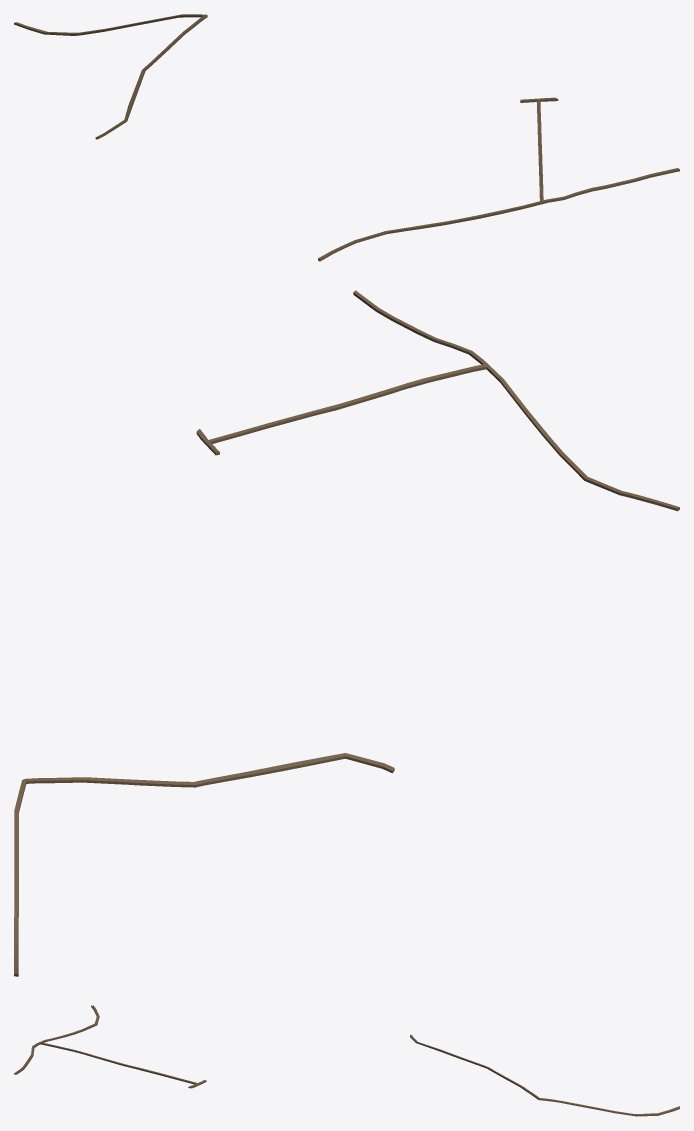
3 views of the same model, one above another, from view 1: azimuth 30°, elevation 25°; view 2: azimuth 150°, elevation 25°; view 3: azimuth 270°, elevation 25° (orthographic). The views are drawn at different scales.
Bounding box in the file's own units: 117 × 54.3 × 308.
